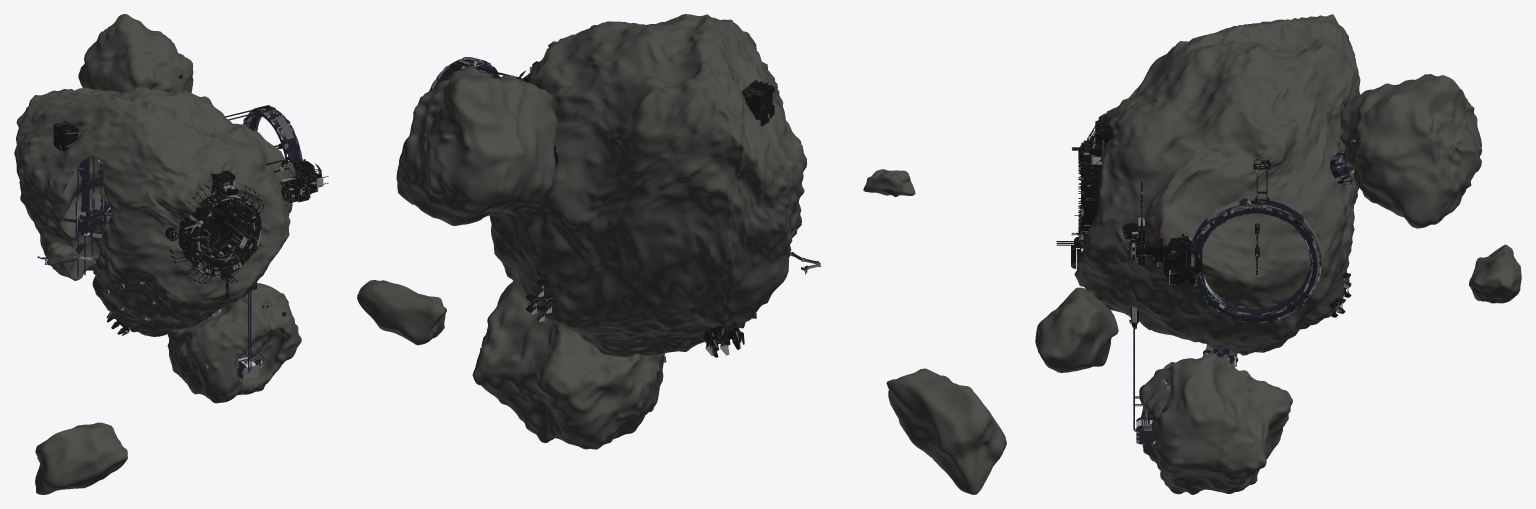
Rendered from station.glb.
3 views of the same model, side by side, from view 1: azimuth 30°, elevation 25°; view 2: azimuth 150°, elevation 25°; view 3: azimuth 270°, elevation 25° (orthographic). The views are drawn at different scales.
Parts seen in each view (by area): view 1: astrodial, astrodial.lower, stationL.002, astrodial.uppper, asteroids, stationL.001; view 2: astrodial, astrodial.uppper, astrodial.lower, asteroids, stationL.002, stationL.001; view 3: astrodial, astrodial.uppper, astrodial.lower, asteroids, stationL.002, stationL.001.
Part boxes in pixels (bbox=[...]): astrodial: bbox=[14, 87, 296, 336]; astrodial.lower: bbox=[167, 283, 301, 403]; stationL.002: bbox=[53, 105, 328, 335]; astrodial.uppper: bbox=[78, 14, 193, 92]; asteroids: bbox=[35, 242, 127, 494]; stationL.001: bbox=[37, 74, 302, 379]; astrodial: bbox=[489, 14, 807, 357]; astrodial.uppper: bbox=[396, 66, 557, 225]; astrodial.lower: bbox=[472, 281, 664, 449]; asteroids: bbox=[357, 169, 1006, 494]; stationL.002: bbox=[448, 60, 774, 357]; stationL.001: bbox=[429, 57, 820, 362]; astrodial: bbox=[1074, 14, 1360, 355]; astrodial.uppper: bbox=[1340, 74, 1482, 228]; astrodial.lower: bbox=[1139, 353, 1292, 494]; asteroids: bbox=[1035, 244, 1521, 372]; stationL.002: bbox=[1056, 24, 1354, 329]; stationL.001: bbox=[1133, 139, 1356, 446].
Bounding box in the file's own units: 146 × 141 × 146.
Materials: 3 (2 with a texture image).
